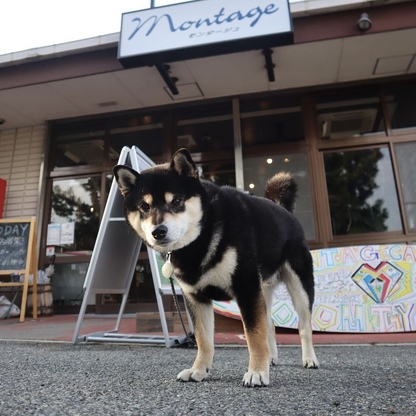shiba: (108, 143, 323, 390)
